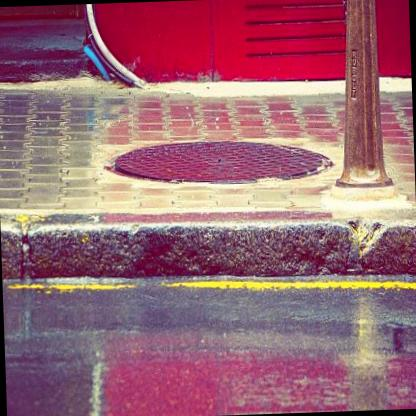manholes: (100, 127, 337, 202)
